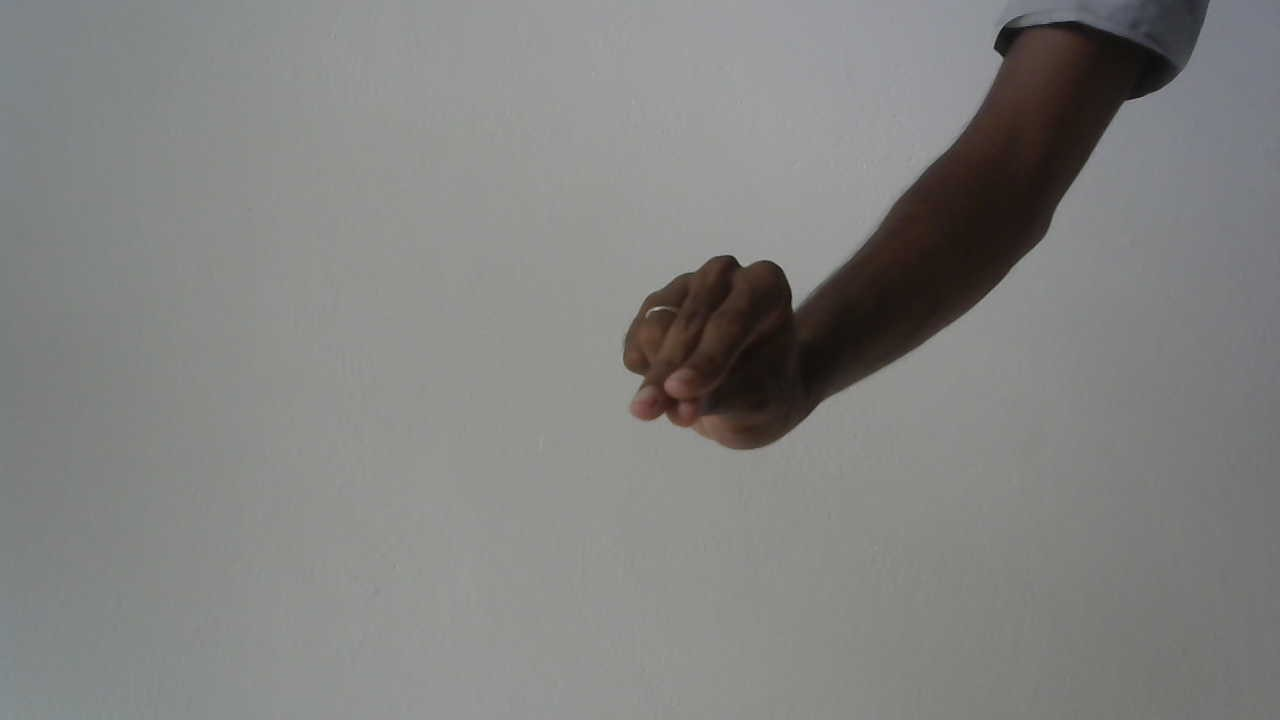no: (601, 240, 835, 468)
